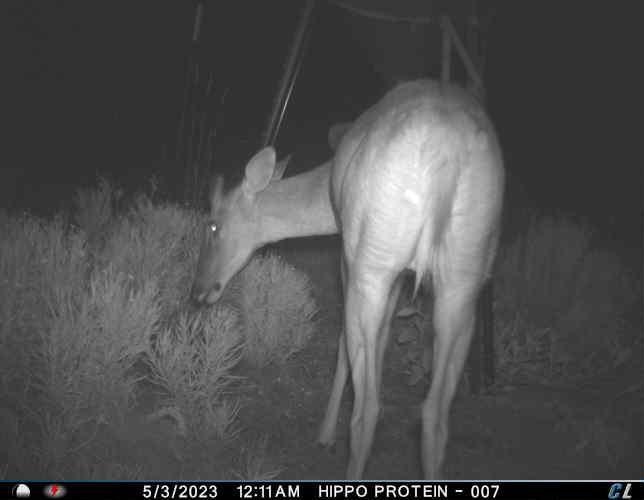Deer: (187, 74, 509, 479)
